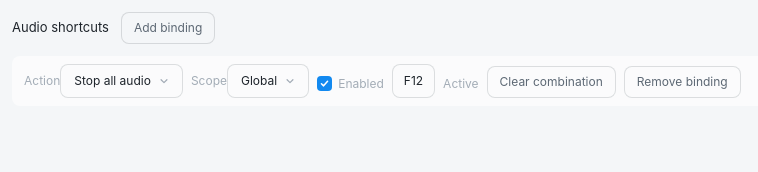
Test case: does not arm recording while a global shortcut remains registered
The image size is (758, 172).
Step 1. Click the button "F12" → (413, 81), box [392,64,435,98]
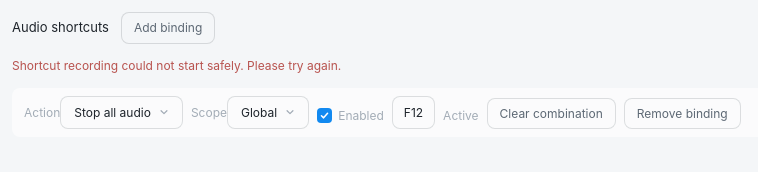
Expected: the message "Shortcut recording could not start safely. Please try again." is shown, [12,58,341,73]
